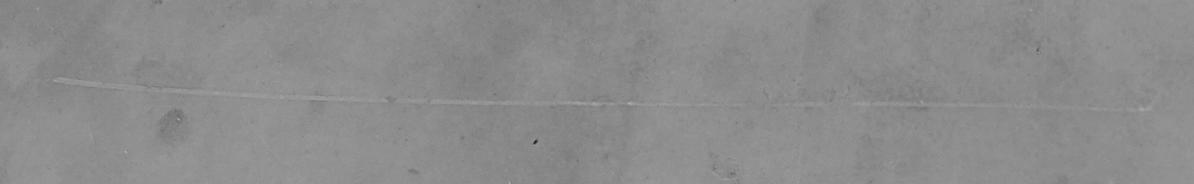scratch: (1, 1, 1194, 184)
